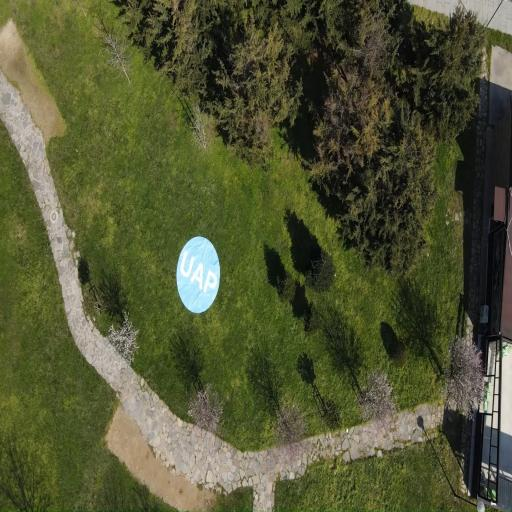car: (177, 237, 220, 313)
